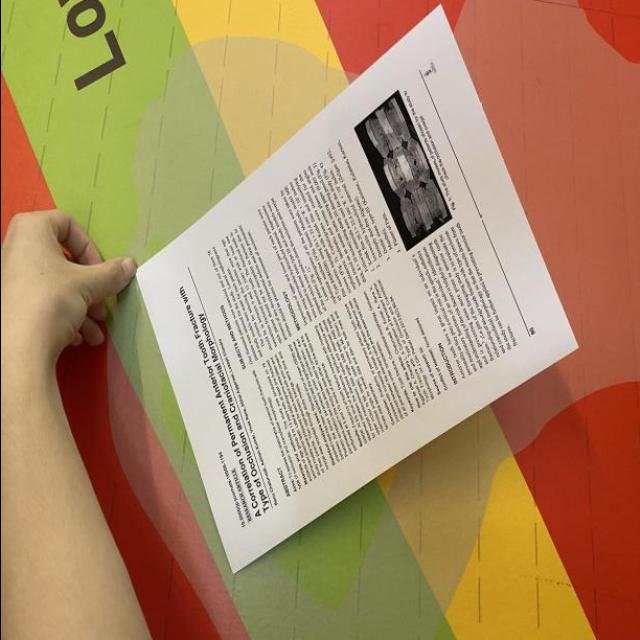kertas: (35, 6, 637, 574)
